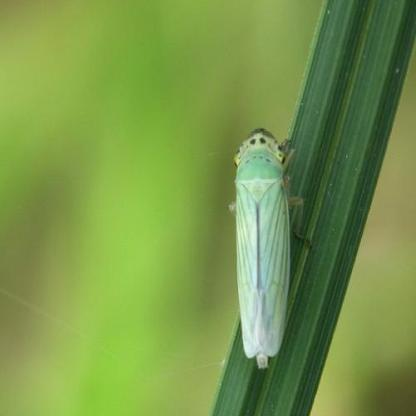Green-Leafhopper: (219, 127, 305, 369)
